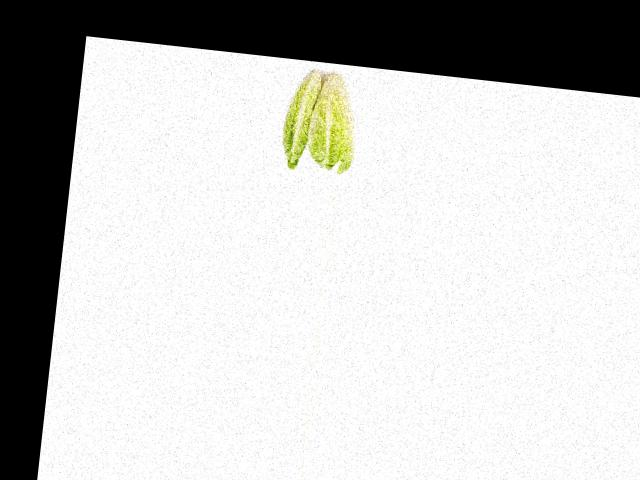lettuce: (268, 60, 326, 172)
